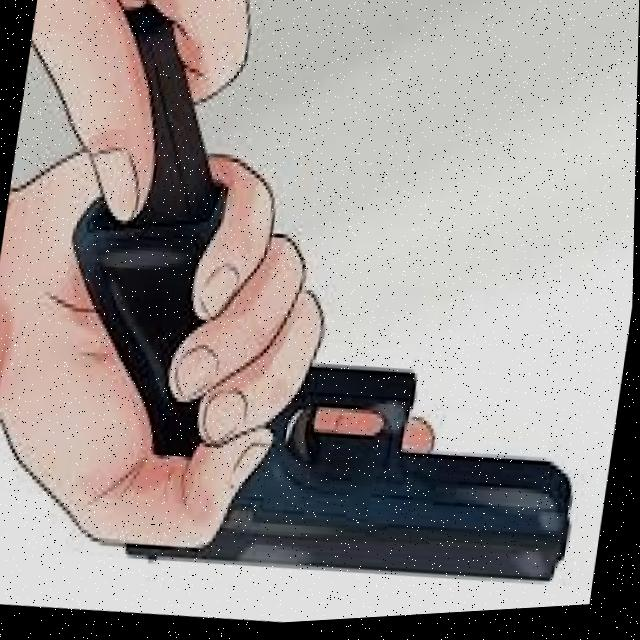pistol: (123, 331, 595, 613)
